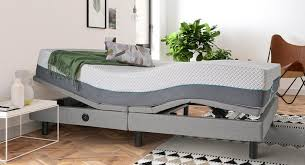bed-matress: (29, 48, 283, 119)
